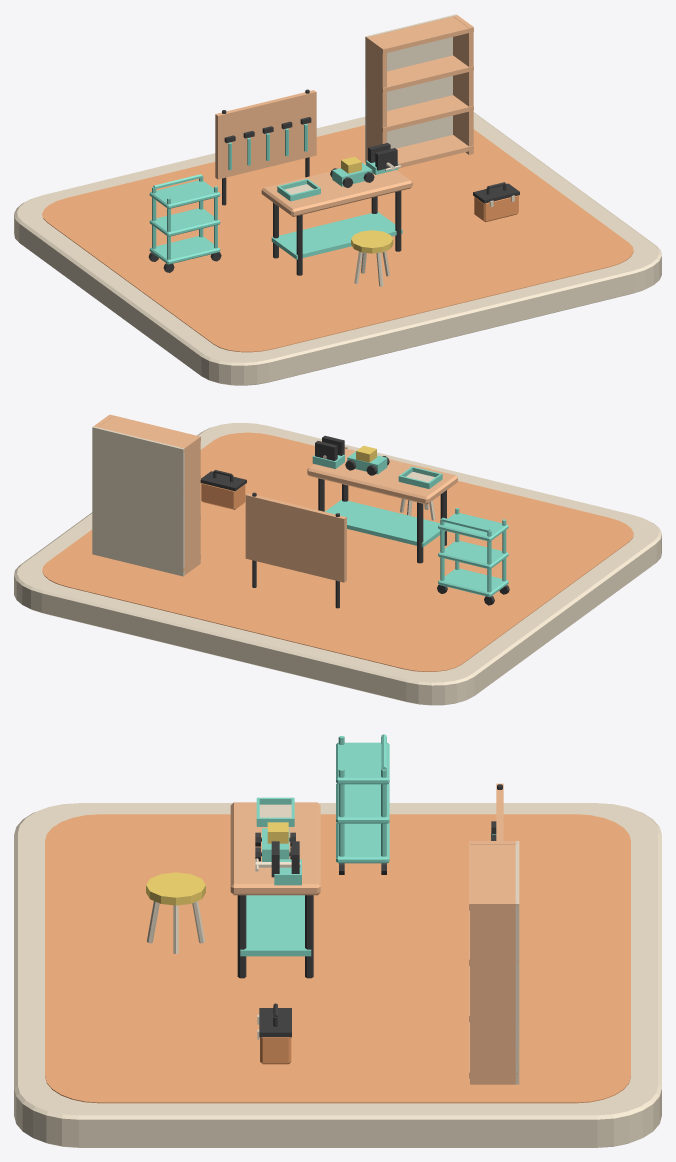
File: room.fbx
The picture shows the model from 3 angles, top to bottom: view 1: azimuth 30°, elevation 25°; view 2: azimuth 150°, elevation 25°; view 3: azimuth 270°, elevation 25°; orthographic projection. The views are drawn at different scales.
Parts seen in each view (by area): view 1: COM-02 Floor Surface, COM-01 Rounded Base Direct, Peg board, Back, Worktop, Lower shelf, Side, Side.001, Shelf.003, Shelf.002, Shelf.001, Shelf (+5 smaller); view 2: COM-02 Floor Surface, COM-01 Rounded Base Direct, Back, Peg board, Worktop, Lower shelf, Side, Shelf.003, Tray.001, Tray, Tray.002, Box (+1 smaller); view 3: COM-02 Floor Surface, COM-01 Rounded Base Direct, Side.001, Worktop, Lower shelf, Shelf.003, Tray.002, Tray, Tray.001, Seat, Back, Lid (+3 smaller).
Part boxes in pixels (left/top/right/bottom): COM-02 Floor Surface: left=42, top=125, right=633, bottom=352; COM-01 Rounded Base Direct: left=14, top=112, right=661, bottom=385; Peg board: left=215, top=90, right=316, bottom=179; Back: left=365, top=14, right=456, bottom=162; Worktop: left=261, top=162, right=412, bottom=216; Lower shelf: left=271, top=212, right=402, bottom=259; Side: left=366, top=36, right=386, bottom=159; Side.001: left=453, top=15, right=473, bottom=154; Shelf.003: left=365, top=16, right=473, bottom=53; Shelf.002: left=365, top=55, right=473, bottom=92; Shelf.001: left=365, top=95, right=473, bottom=132; Shelf: left=366, top=135, right=473, bottom=168; COM-02 Floor Surface: left=42, top=432, right=633, bottom=671; COM-01 Rounded Base Direct: left=14, top=423, right=661, bottom=705; Back: left=92, top=426, right=184, bottom=576; Peg board: left=245, top=493, right=346, bottom=582; Worktop: left=307, top=448, right=457, bottom=504; Lower shelf: left=325, top=499, right=445, bottom=547; Side: left=180, top=436, right=200, bottom=574; Shelf.003: left=98, top=414, right=200, bottom=452; Tray.001: left=438, top=540, right=508, bottom=569; Tray: left=438, top=568, right=508, bottom=597; Tray.002: left=438, top=513, right=508, bottom=541; Box: left=201, top=483, right=245, bottom=509; COM-02 Floor Surface: left=45, top=814, right=630, bottom=1103; COM-01 Rounded Base Direct: left=14, top=803, right=661, bottom=1147; Side.001: left=470, top=901, right=517, bottom=1084; Worktop: left=230, top=802, right=320, bottom=895; Lower shelf: left=240, top=895, right=311, bottom=956; Shelf.003: left=469, top=841, right=518, bottom=910; Tray.002: left=336, top=742, right=389, bottom=784; Tray: left=336, top=823, right=389, bottom=863; Tray.001: left=336, top=783, right=389, bottom=823; Seat: left=146, top=872, right=205, bottom=905; Back: left=515, top=841, right=519, bottom=1084; Lid: left=259, top=1008, right=291, bottom=1037.
Size of the model in its own units: 600 by 190 by 520.
